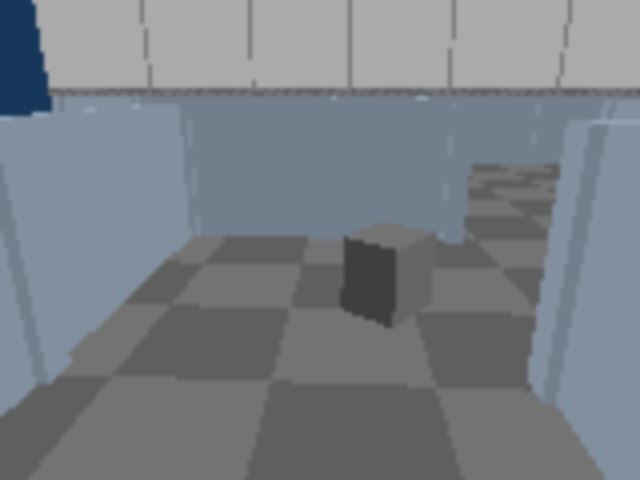person: (0, 0, 67, 330)
